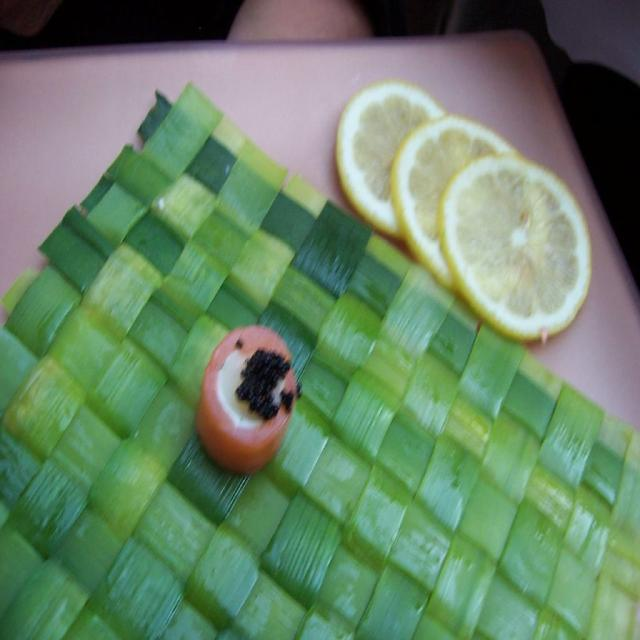Lemon: (440, 152, 594, 344), (389, 112, 519, 290), (334, 78, 444, 240)
